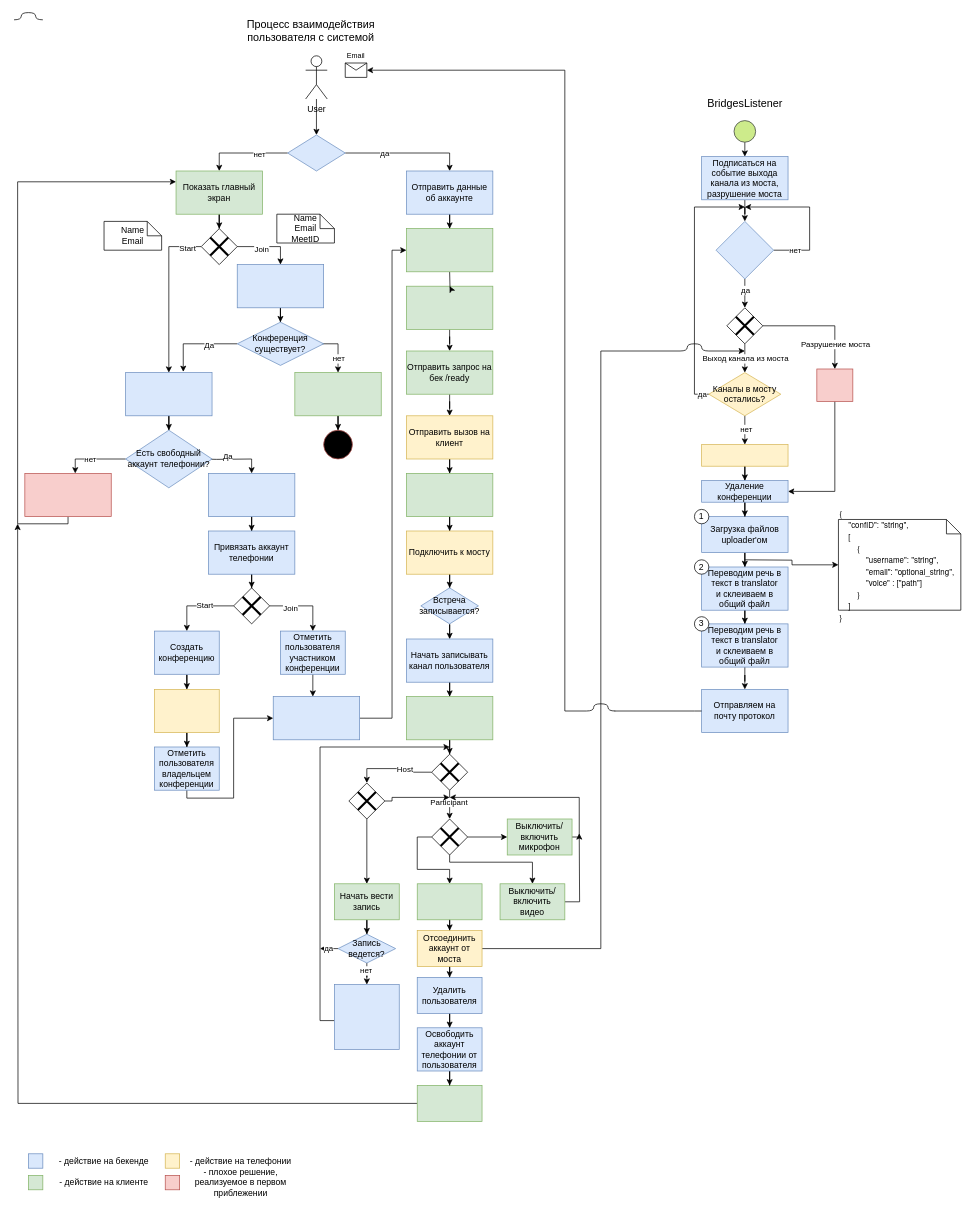
Image size: 973x1210. Some labels were removed from this diagram. Each missing label, with the box of its shape:
Есть сессия?: (287, 134, 345, 171)
Начать записывать канал каждого участника конференции отдельно: (334, 984, 399, 1049)
Отключиться от телефонии: (417, 1085, 482, 1121)
Отправить данные клиенту: (273, 696, 360, 740)
Показать уведомление о том, что нет аккаунтов: (24, 473, 111, 517)
Показать уведомление о том, что нет конференции: (294, 372, 381, 416)
Показать экран "Подключение": (406, 228, 493, 272)
Показать экран конференции: (406, 696, 493, 740)
Покинуть встречу: (417, 883, 482, 920)
Принять вызов: (406, 473, 493, 517)
Присоединиться к аккаунту телефонии: (406, 285, 493, 329)
Проверить наличие конференции по meetID: (237, 264, 324, 308)
Проверить наличие свободных аккаунтов: (125, 372, 212, 416)
Произошло событие?: (715, 221, 774, 279)
Создать мост: (154, 689, 219, 733)
Создать пользователя: (208, 473, 295, 517)
Удаление моста: (701, 444, 788, 466)
